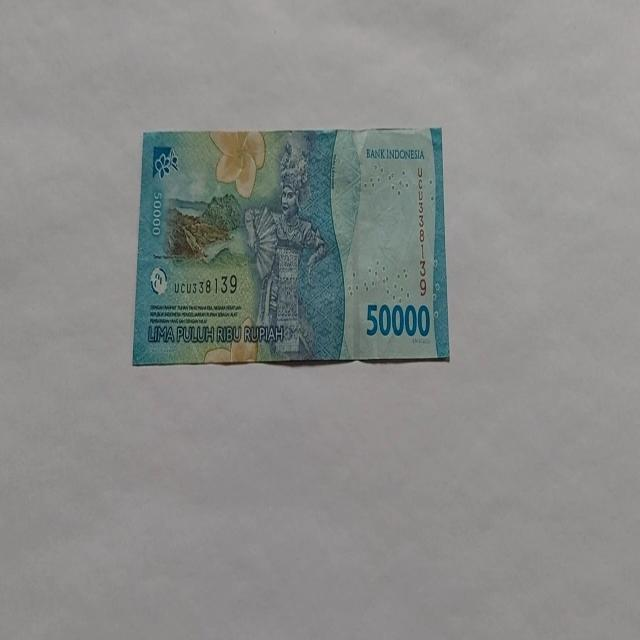lima puluh ribu rupiah: (132, 126, 450, 367), (242, 139, 330, 361)
